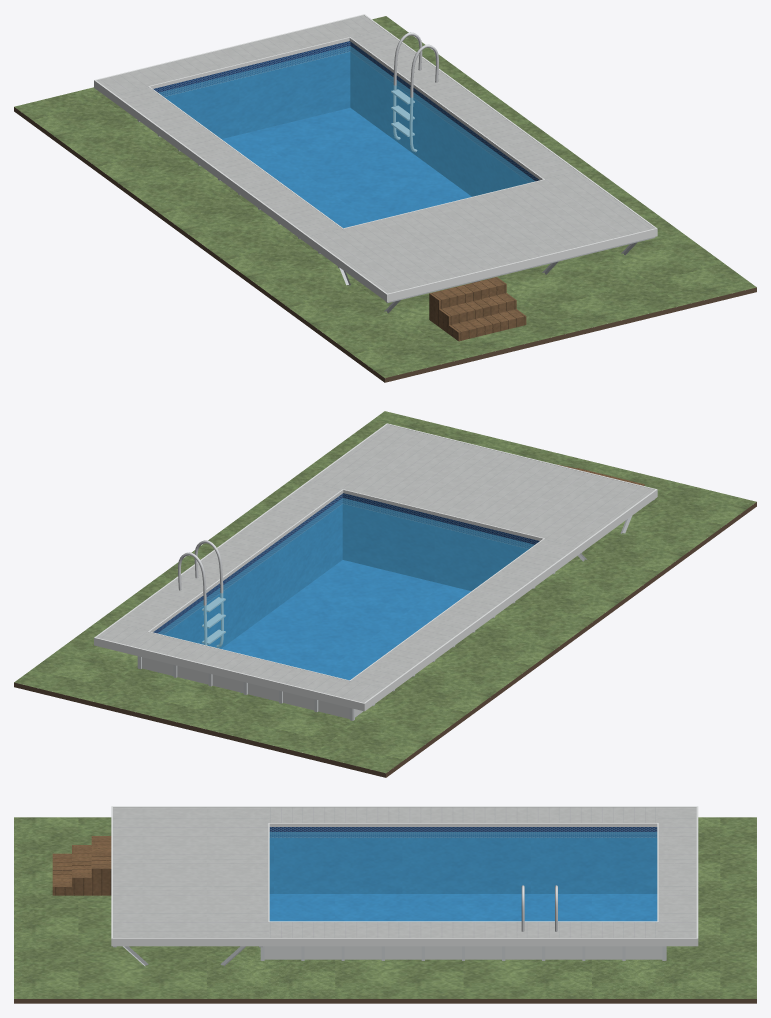
The model's file is kayak-pool-12x20-white-end-rec-nofence.c615b1de8d.glb.
3 views of the same model, one above another, from view 1: azimuth 30°, elevation 25°; view 2: azimuth 150°, elevation 25°; view 3: azimuth 270°, elevation 25° (orthographic).
Parts seen in each view (by area): view 1: ground, deck, water, liner_wall, liner_floor, fascia, steps, soil, steel, stud; view 2: ground, deck, water, liner_wall, liner_floor, fascia, soil, wall, steel; view 3: ground, deck, water, liner_wall, liner_floor, fascia, wall, soil, steps, upright.
Part boxes in pixels (x1,y1,x2,y2): ground: (14, 16, 756, 377); deck: (97, 15, 654, 293); water: (159, 46, 534, 228); liner_wall: (153, 41, 539, 196); liner_floor: (222, 108, 471, 228); fascia: (94, 14, 657, 302); steps: (429, 277, 526, 341); soil: (14, 107, 756, 382); steel: (391, 32, 438, 152); stud: (312, 237, 655, 313); ground: (14, 411, 756, 772); deck: (97, 424, 654, 702); water: (158, 498, 534, 680); liner_wall: (153, 493, 539, 648); liner_floor: (221, 560, 470, 680); fascia: (94, 423, 657, 711); soil: (14, 502, 756, 777); wall: (142, 657, 363, 718); steel: (178, 540, 225, 647); ground: (14, 817, 756, 998); deck: (113, 807, 696, 937); water: (269, 832, 657, 921); liner_wall: (269, 827, 657, 893); liner_floor: (269, 894, 657, 921); fascia: (111, 806, 698, 946); wall: (264, 946, 662, 959); soil: (14, 999, 756, 1003); steps: (52, 836, 111, 895); upright: (260, 946, 666, 960).
Bounding box in the file's own units: 6.71 × 1.9 × 11.57.
Materials: 12 (5 with a texture image).
